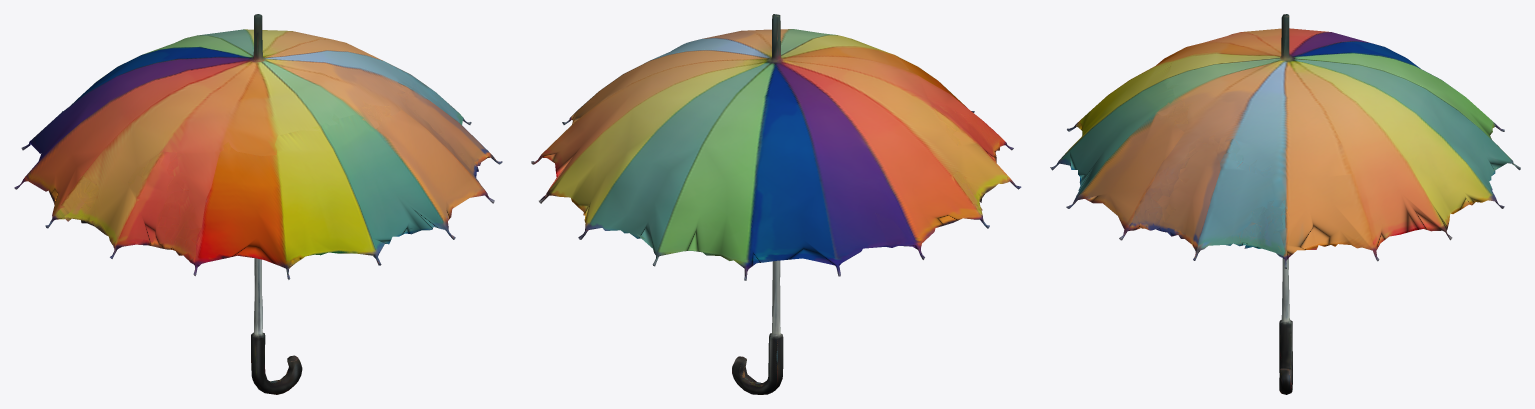
The model's file is regenschirm-3d.glb.
3 views of the same model, side by side, from view 1: azimuth 30°, elevation 25°; view 2: azimuth 150°, elevation 25°; view 3: azimuth 270°, elevation 25° (orthographic). The views are drawn at different scales.
Parts seen in each view (by area): view 1: input; view 2: input; view 3: input.
Part boxes in pixels (x1=…): input: x1=14, y1=14, x2=502, y2=394; input: x1=531, y1=14, x2=1021, y2=394; input: x1=1050, y1=14, x2=1520, y2=394.
Bounding box in the file's own units: 1 × 0.8594 × 0.998.
Materials: 1 (1 with a texture image).
